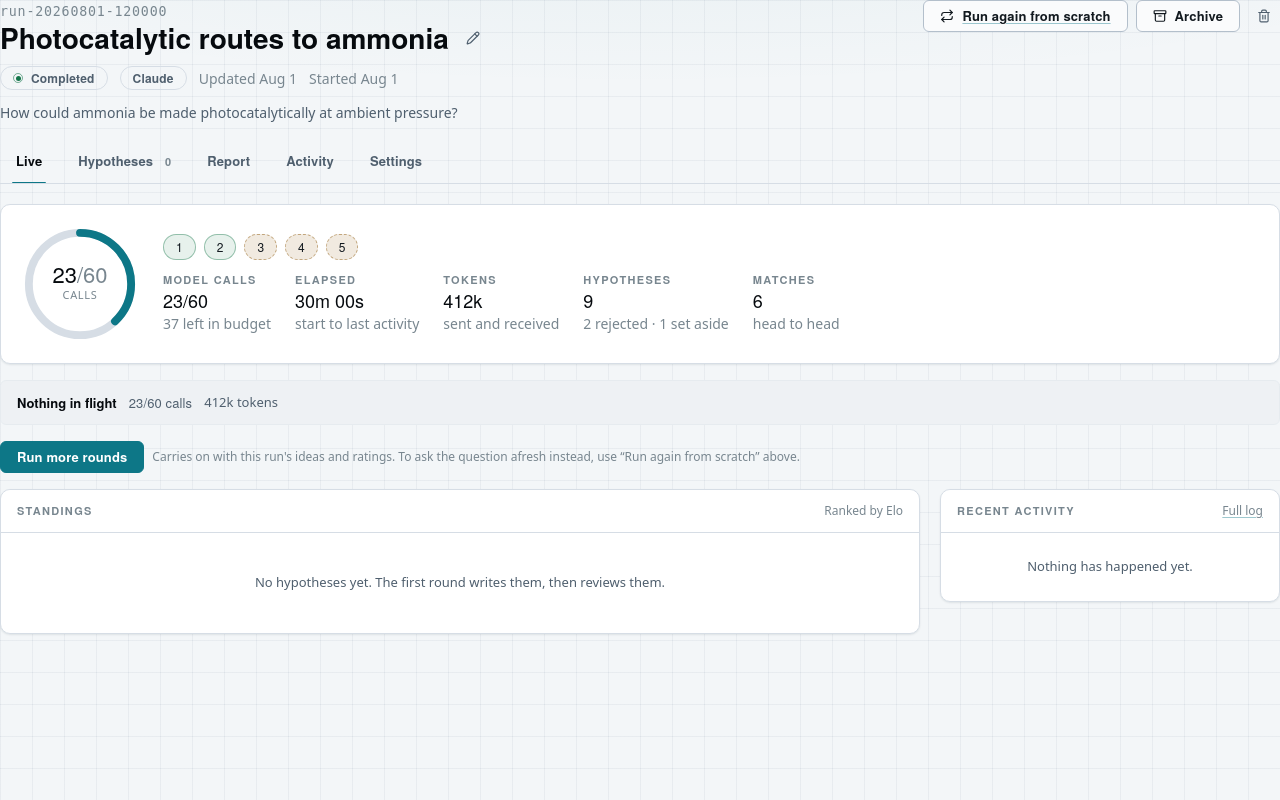
Test case: running more rounds of a finished run › promises what a clone cannot: the ideas and ratings survive
Click the button "Run more rounds". click: (72, 457)
box: top-left (0, 441), bottom-right (144, 473)
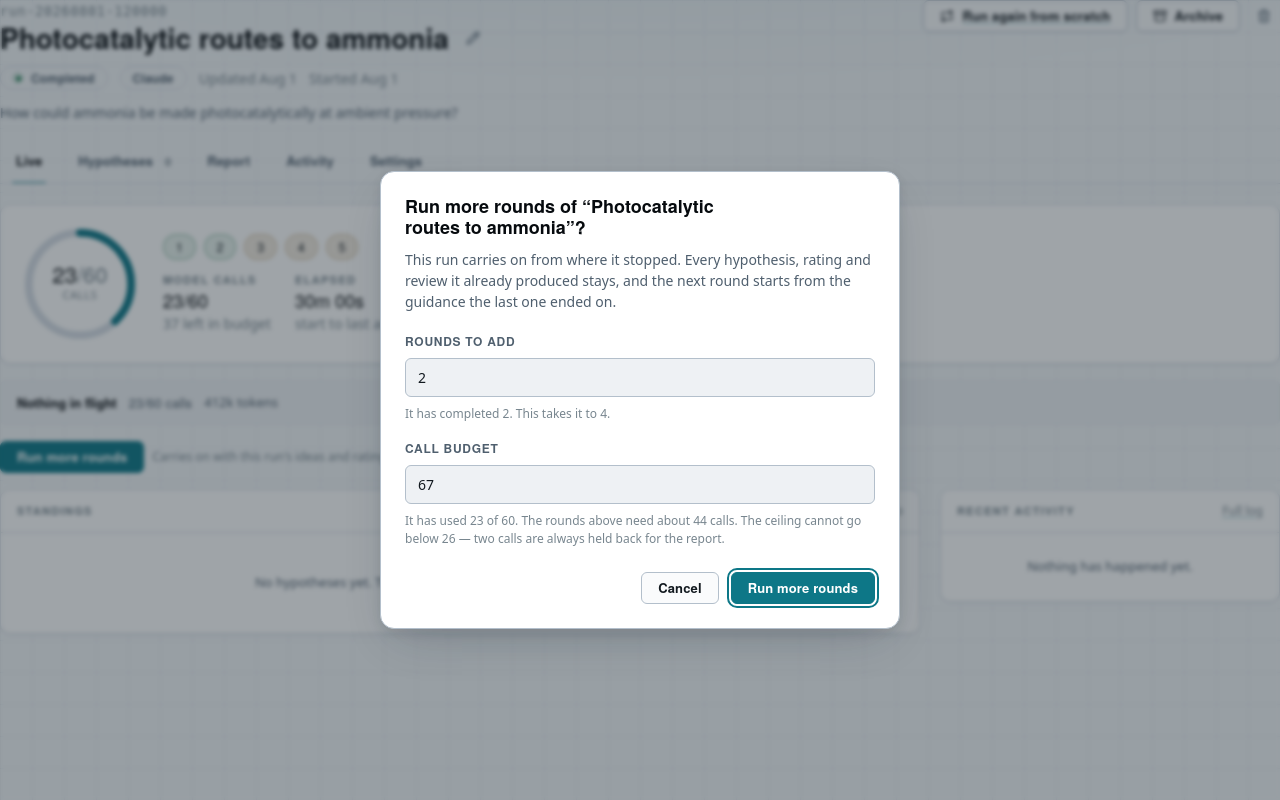
Expected: the dialog shows "Photocatalytic routes to ammonia", top-left (405, 193), bottom-right (714, 240)
Expected: the dialog shows "every hypothesis, rating and review", top-left (405, 250), bottom-right (871, 311)
Expected: the dialog shows "guidance the last one ended on", top-left (405, 250), bottom-right (871, 311)
